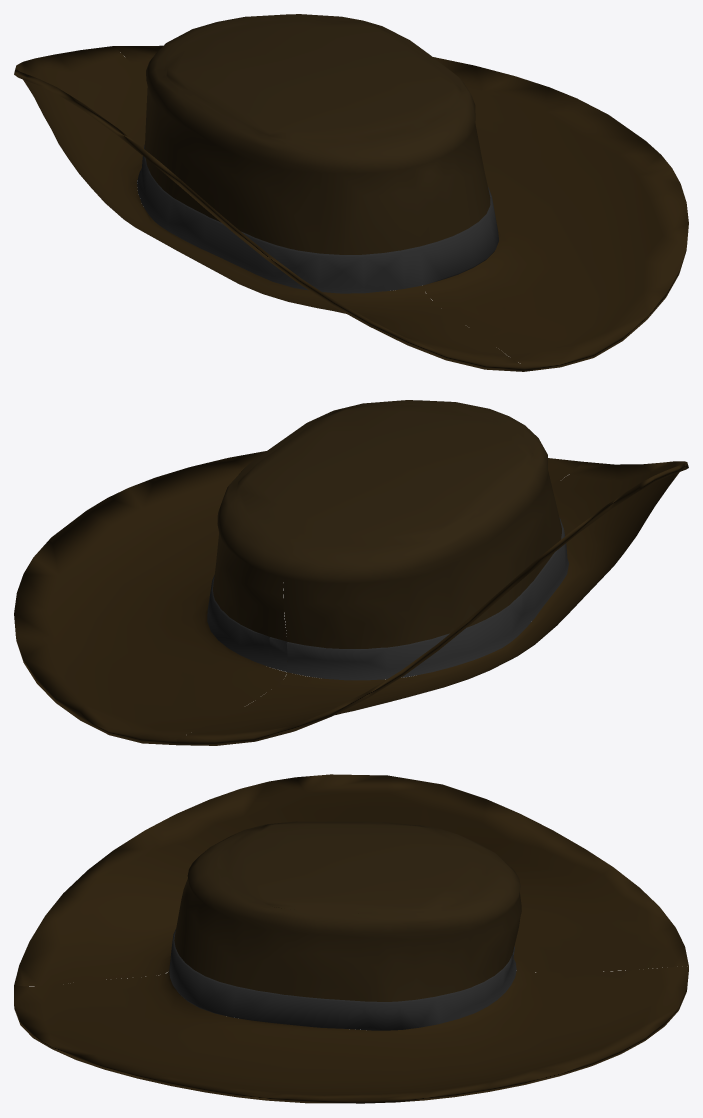
File: hat_cavalier.glb
3 views of the same model, one above another, from view 1: azimuth 30°, elevation 25°; view 2: azimuth 150°, elevation 25°; view 3: azimuth 270°, elevation 25° (orthographic). The views are drawn at different scales.
Parts seen in each view (by area): view 1: cavalier_hat_brim_0, cavalier_hat_cloth_0, cavalier_hat_band_0; view 2: cavalier_hat_brim_0, cavalier_hat_cloth_0, cavalier_hat_band_0; view 3: cavalier_hat_brim_0, cavalier_hat_cloth_0, cavalier_hat_band_0.
Boxes of the visible parts, left/top/right/bottom form: cavalier_hat_brim_0: left=14, top=45, right=688, bottom=371; cavalier_hat_cloth_0: left=144, top=14, right=490, bottom=292; cavalier_hat_band_0: left=137, top=144, right=498, bottom=293; cavalier_hat_brim_0: left=14, top=451, right=688, bottom=745; cavalier_hat_cloth_0: left=213, top=400, right=561, bottom=679; cavalier_hat_band_0: left=207, top=518, right=568, bottom=680; cavalier_hat_brim_0: left=14, top=774, right=688, bottom=1103; cavalier_hat_cloth_0: left=174, top=821, right=521, bottom=1001; cavalier_hat_band_0: left=169, top=929, right=516, bottom=1030.
Bounding box in the file's own units: 0.272 × 0.0804 × 0.3658.
